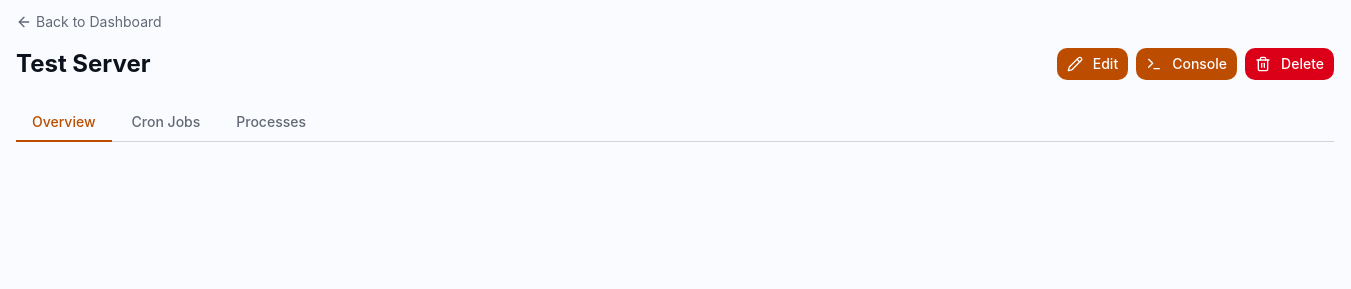
Test: ServerDetail — Processes tab › shows error state when fetch fails
This screenshot has width=1351, height=289.
Click the tab "Processes" at (271, 123), box [220,104,322,142]
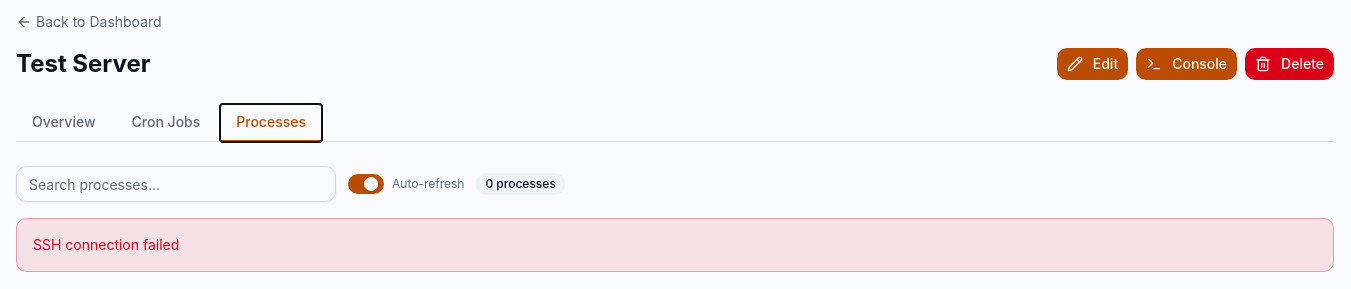
Check: the text "SSH connection failed" is shown, box [16,218,1334,272]
